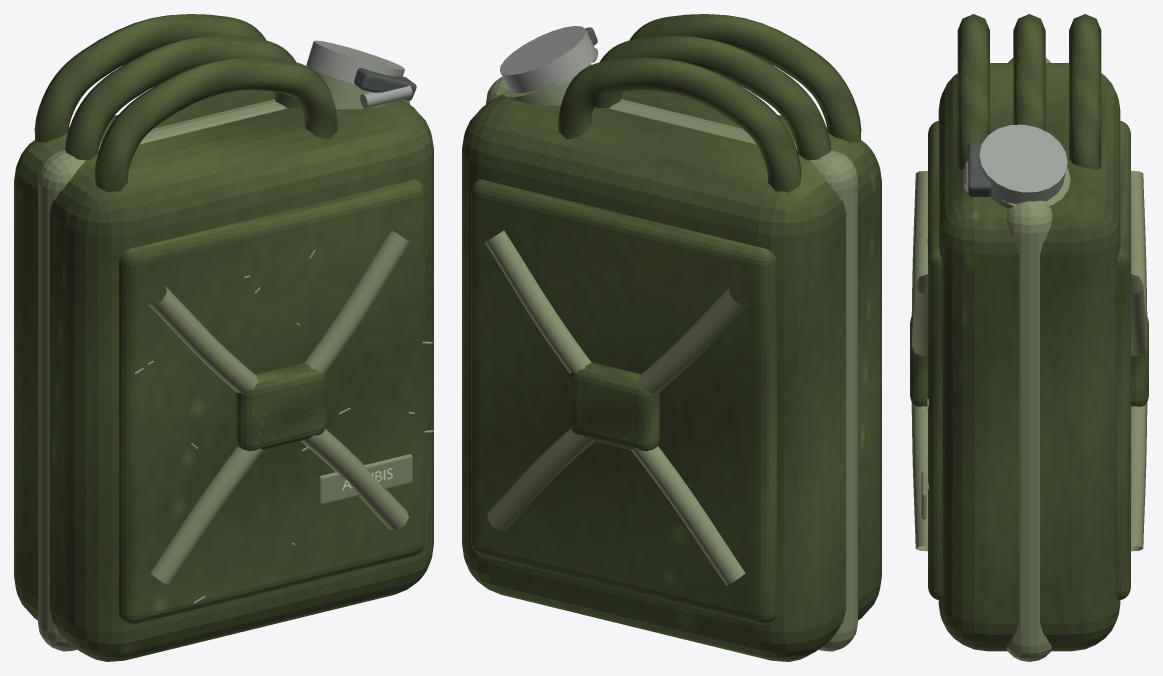
File: bidon-realista.glb
3 renders of one model, left to right at view 1: azimuth 30°, elevation 25°; view 2: azimuth 150°, elevation 25°; view 3: azimuth 270°, elevation 25°, orthographic. The views are drawn at different scales.
Parts seen in each view (by area): view 1: Pintura oliva envejecida, Soldadura y bordes, Acero oscurecido.002, Polímero carbón.002; view 2: Pintura oliva envejecida, Soldadura y bordes, Acero oscurecido.002; view 3: Pintura oliva envejecida, Soldadura y bordes, Acero oscurecido.002, Polímero carbón.002.
Boxes of the visible parts, box(x1,y1,x2,y2) form: Pintura oliva envejecida: box(14, 14, 433, 661); Soldadura y bordes: box(38, 70, 412, 651); Acero oscurecido.002: box(134, 40, 433, 603); Polímero carbón.002: box(354, 68, 416, 100); Pintura oliva envejecida: box(462, 14, 881, 661); Soldadura y bordes: box(485, 64, 857, 651); Acero oscurecido.002: box(500, 26, 597, 93); Pintura oliva envejecida: box(910, 14, 1148, 651); Soldadura y bordes: box(911, 58, 1147, 661); Acero oscurecido.002: box(927, 124, 1067, 489); Polímero carbón.002: box(968, 142, 991, 196).
Bounding box in the file's own units: 0.317 × 0.4815 × 0.1928.
5 materials, 1 textured.
